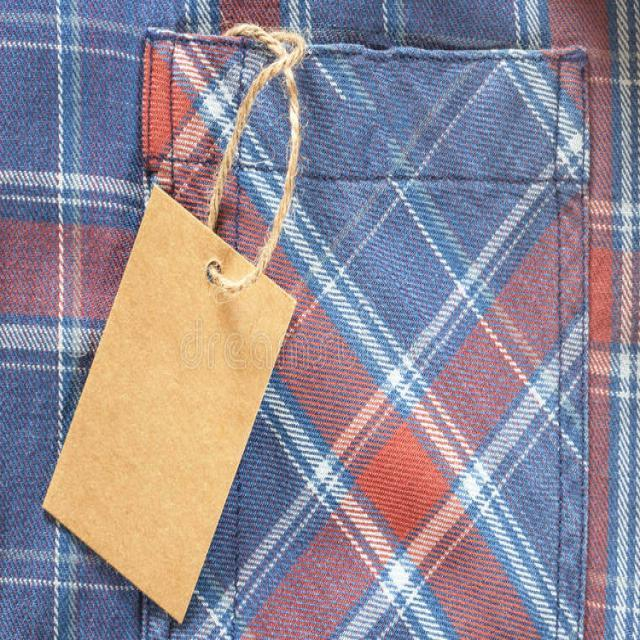clothes: (32, 25, 599, 640)
